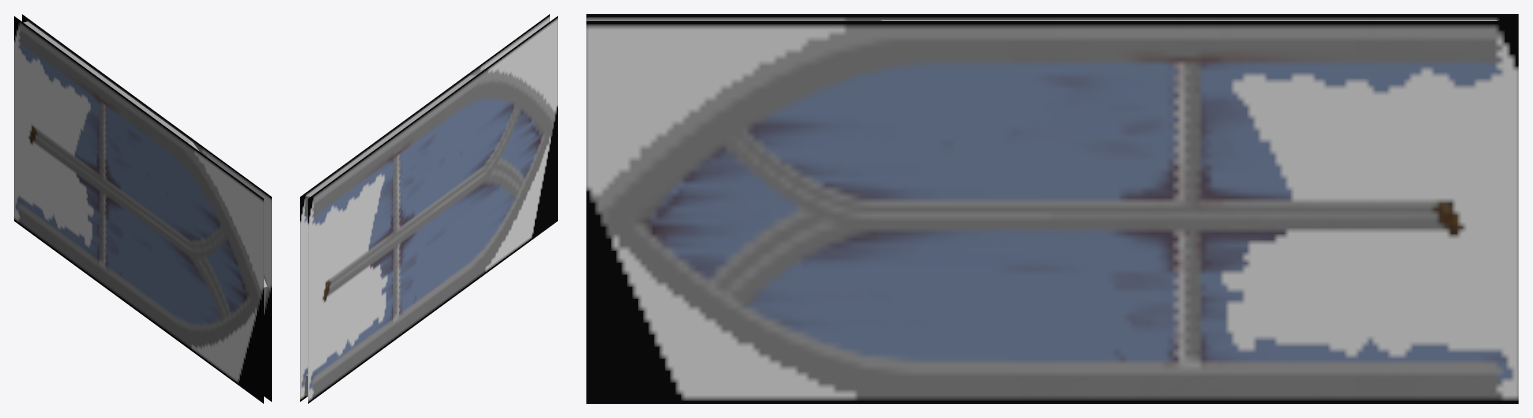
File: pz_native_location_community_church_small_01_240_frame.obj
3 renders of one model, left to right at view 1: azimuth 30°, elevation 25°; view 2: azimuth 150°, elevation 25°; view 3: azimuth 270°, elevation 25°, orthographic. The views are drawn at different scales.
Parts seen in each view (by area): view 1: pz_native_location_community_church_small_01_240_frame; view 2: pz_native_location_community_church_small_01_240_frame; view 3: pz_native_location_community_church_small_01_240_frame.
Boxes of the visible parts, <box> form: pz_native_location_community_church_small_01_240_frame: <box>14,14,271,403</box>; pz_native_location_community_church_small_01_240_frame: <box>300,14,557,403</box>; pz_native_location_community_church_small_01_240_frame: <box>586,14,1518,403</box>.
Bounding box in the file's own units: 0.04 × 1 × 2.21.
1 material, 1 textured.
